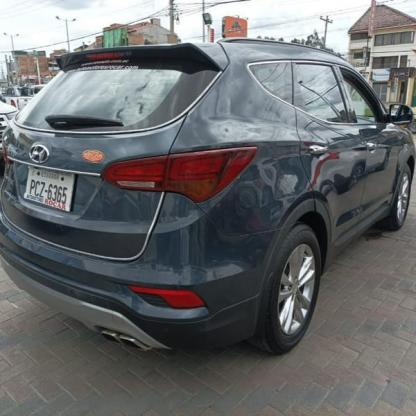Placa: (22, 162, 76, 215)
